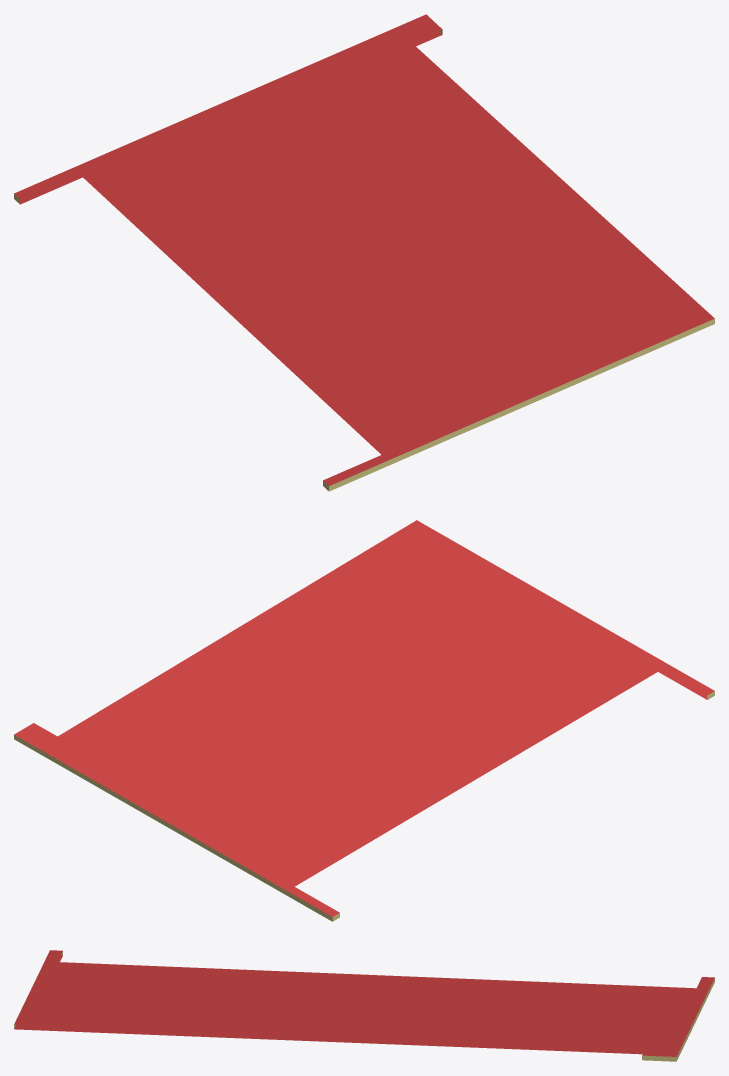
The picture shows the model from 3 angles, top to bottom: view 1: azimuth 30°, elevation 25°; view 2: azimuth 150°, elevation 25°; view 3: azimuth 270°, elevation 25°; orthographic projection. The views are drawn at different scales.
Bounding box in the file's own units: 8.75 × 13.32 × 1.94.
